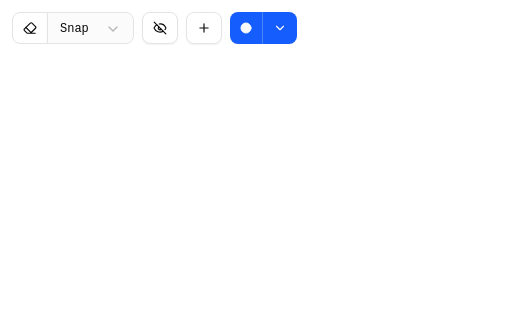
Test case: ProgrammerActionBar › offers Record four destinations, with the included cue among them
Step 1. Press the mouse on the button named "Record destination" → (280, 28), box top-left (262, 12), bottom-right (297, 44)
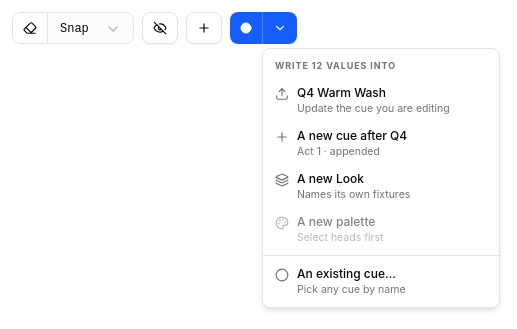
Expected: the text "Write 12 values into" is shown, top-left (275, 60), bottom-right (396, 71)
Expected: the text "Q4 Warm Wash" is shown, top-left (297, 84), bottom-right (386, 100)
Expected: the text "A new cue after Q4" is shown, top-left (297, 128), bottom-right (407, 144)
